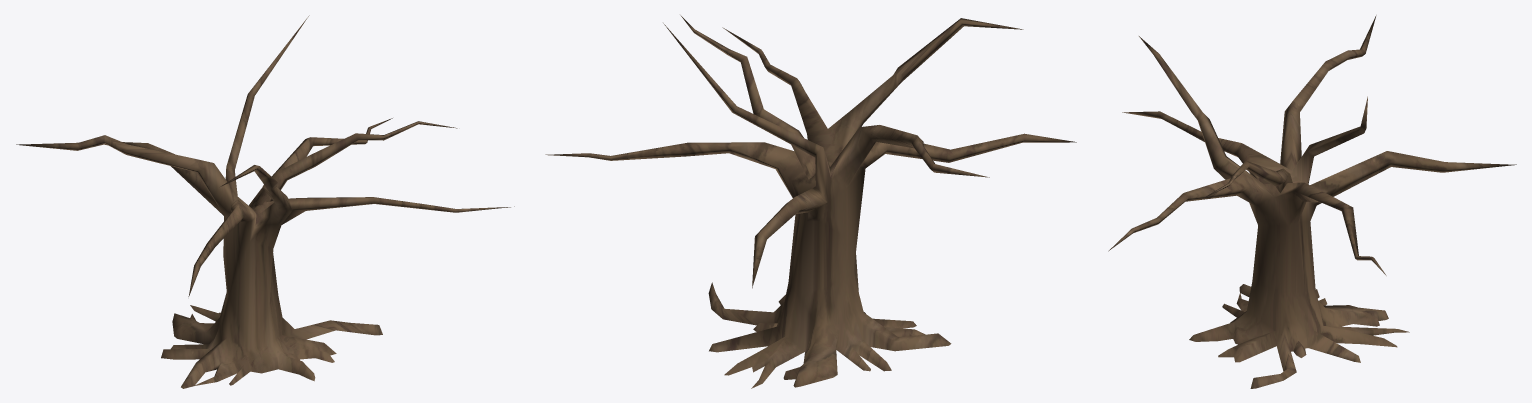
The model's file is Tree_07_Collider.fbx.
The picture shows the model from 3 angles, left to right: view 1: azimuth 30°, elevation 25°; view 2: azimuth 150°, elevation 25°; view 3: azimuth 270°, elevation 25°; orthographic projection. The views are drawn at different scales.
Parts seen in each view (by area): view 1: Tree_07_Collider; view 2: Tree_07_Collider; view 3: Tree_07_Collider.
Boxes of the visible parts, box(x1,y1,x2,y2) form: Tree_07_Collider: box(16, 15, 514, 388); Tree_07_Collider: box(545, 15, 1076, 388); Tree_07_Collider: box(1108, 15, 1516, 388).
Size of the model in its own units: 9.73 by 6.79 by 8.81.
